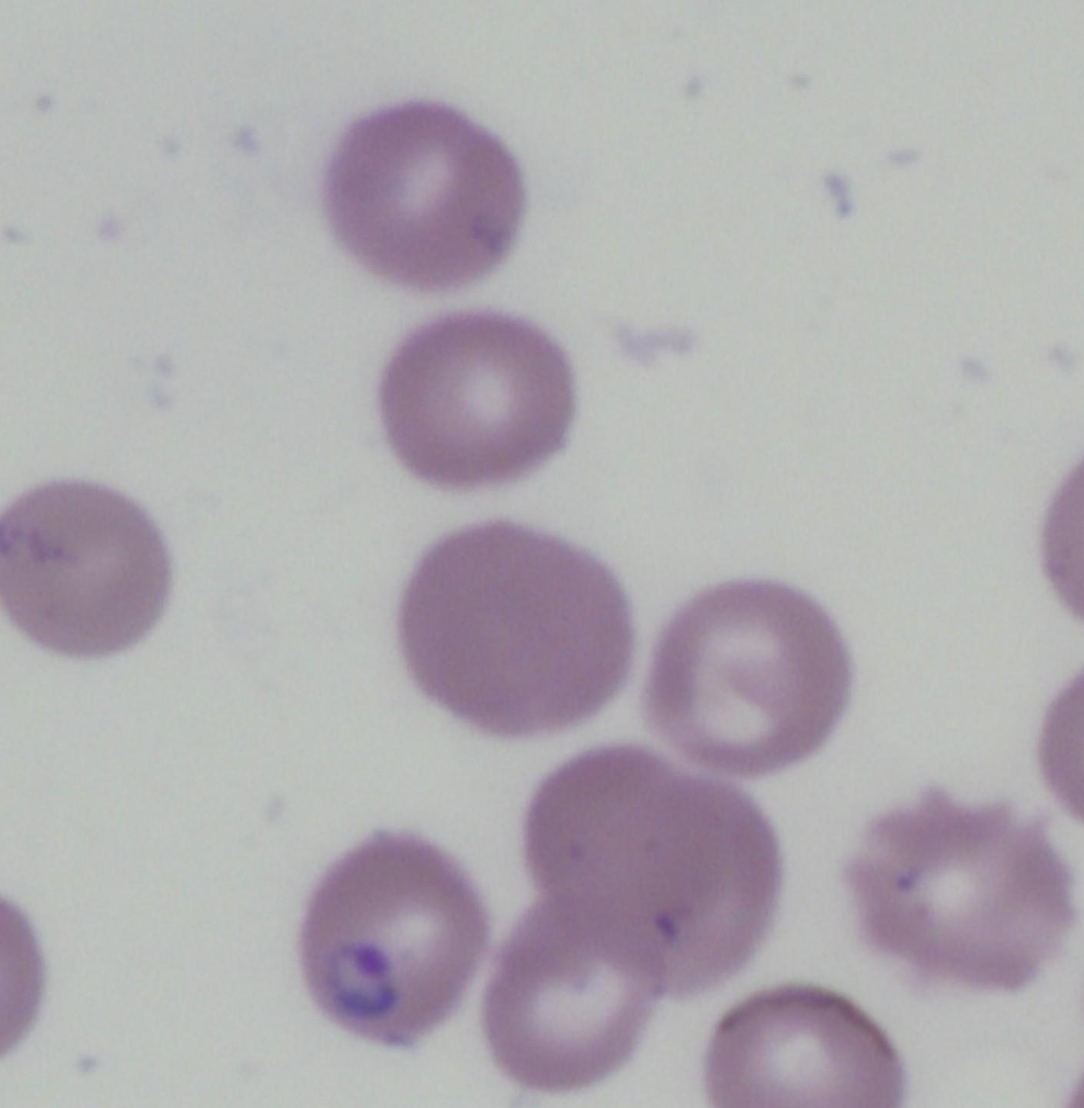Infected: (290, 830, 498, 1047)
Uninfected: (403, 519, 633, 742), (851, 784, 1071, 996), (646, 571, 859, 777), (587, 779, 775, 1003), (490, 884, 674, 1085), (326, 98, 522, 285), (377, 306, 579, 485), (521, 748, 707, 924), (0, 481, 163, 662), (705, 984, 910, 1108)
